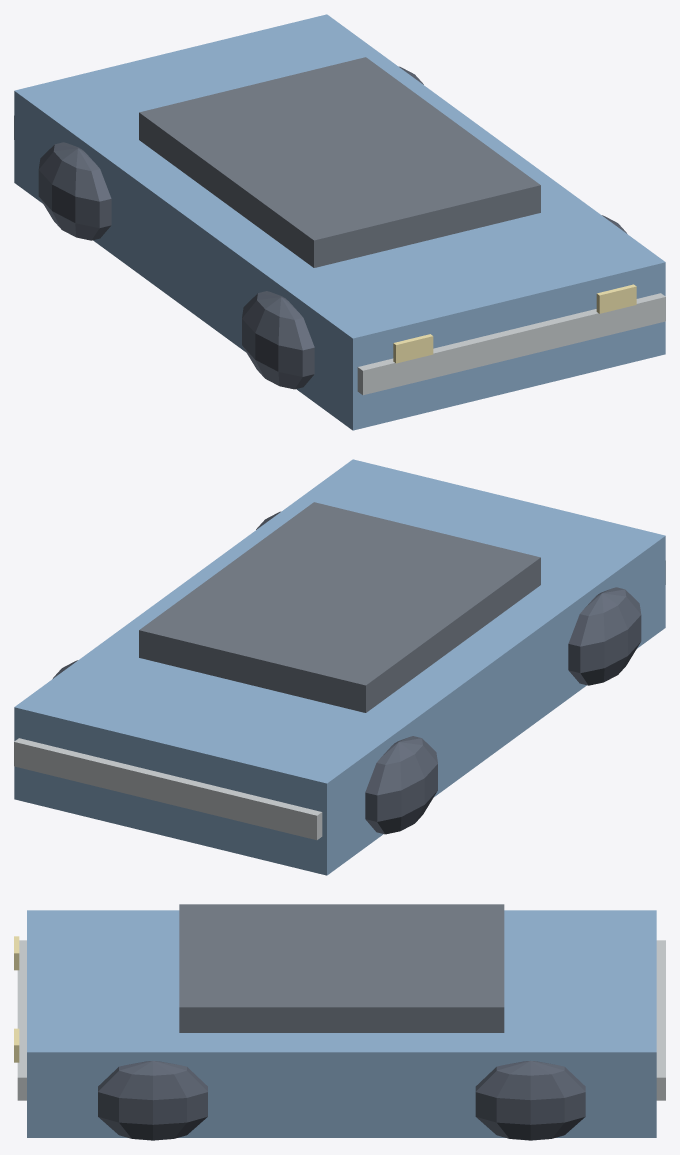
Rendered from auto_aplastado_azul.glb.
The picture shows the model from 3 angles, top to bottom: view 1: azimuth 30°, elevation 25°; view 2: azimuth 150°, elevation 25°; view 3: azimuth 270°, elevation 25°; orthographic projection. The views are drawn at different scales.
Parts seen in each view (by area): view 1: auto_aplastado_azul; view 2: auto_aplastado_azul; view 3: auto_aplastado_azul.
Boxes of the visible parts, x1=… form: auto_aplastado_azul: x1=14, y1=14, x2=665, y2=430; auto_aplastado_azul: x1=14, y1=459, x2=665, y2=875; auto_aplastado_azul: x1=14, y1=904, x2=665, y2=1140.
Bounding box in the file's own units: 1.91 × 0.59 × 3.11.
